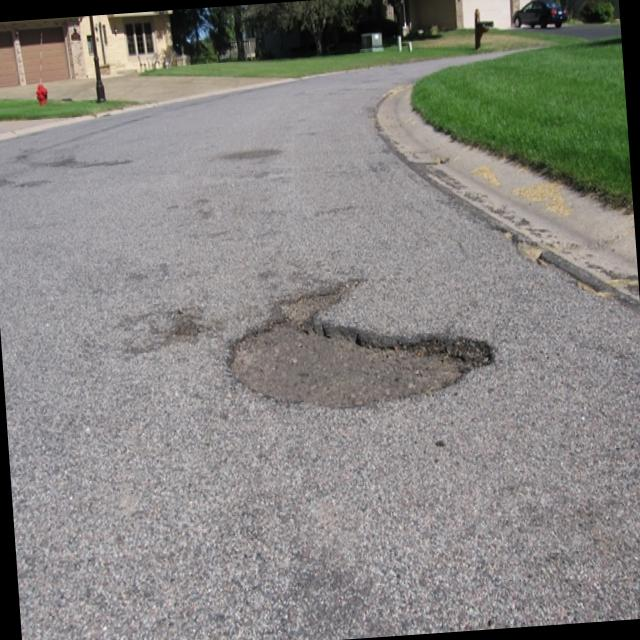bad-road: (221, 266, 499, 420)
